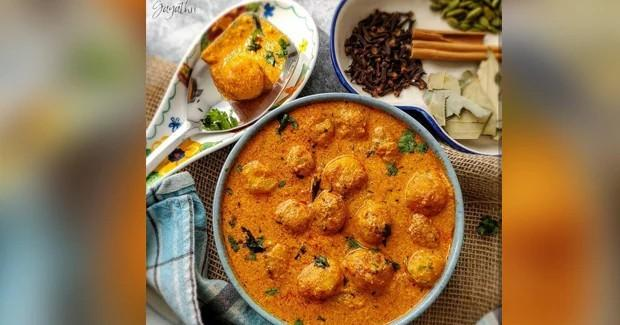DumAloo: (219, 97, 458, 325)
